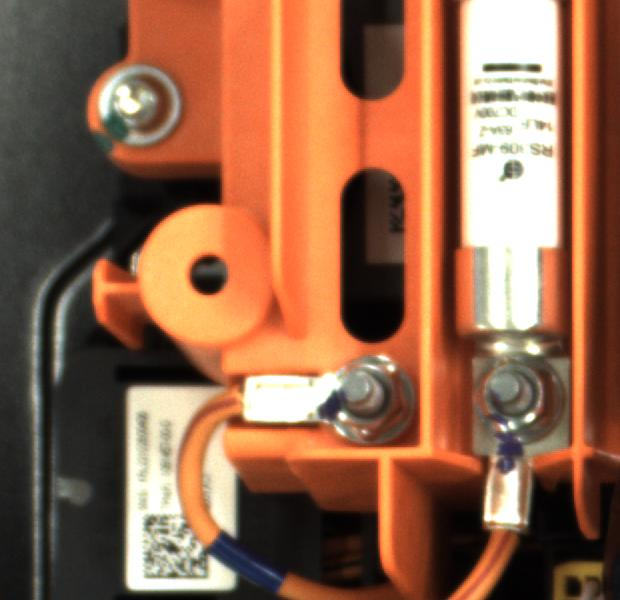screw_m: (84, 54, 199, 155)
screw_s: (468, 347, 567, 449), (323, 351, 421, 448)
